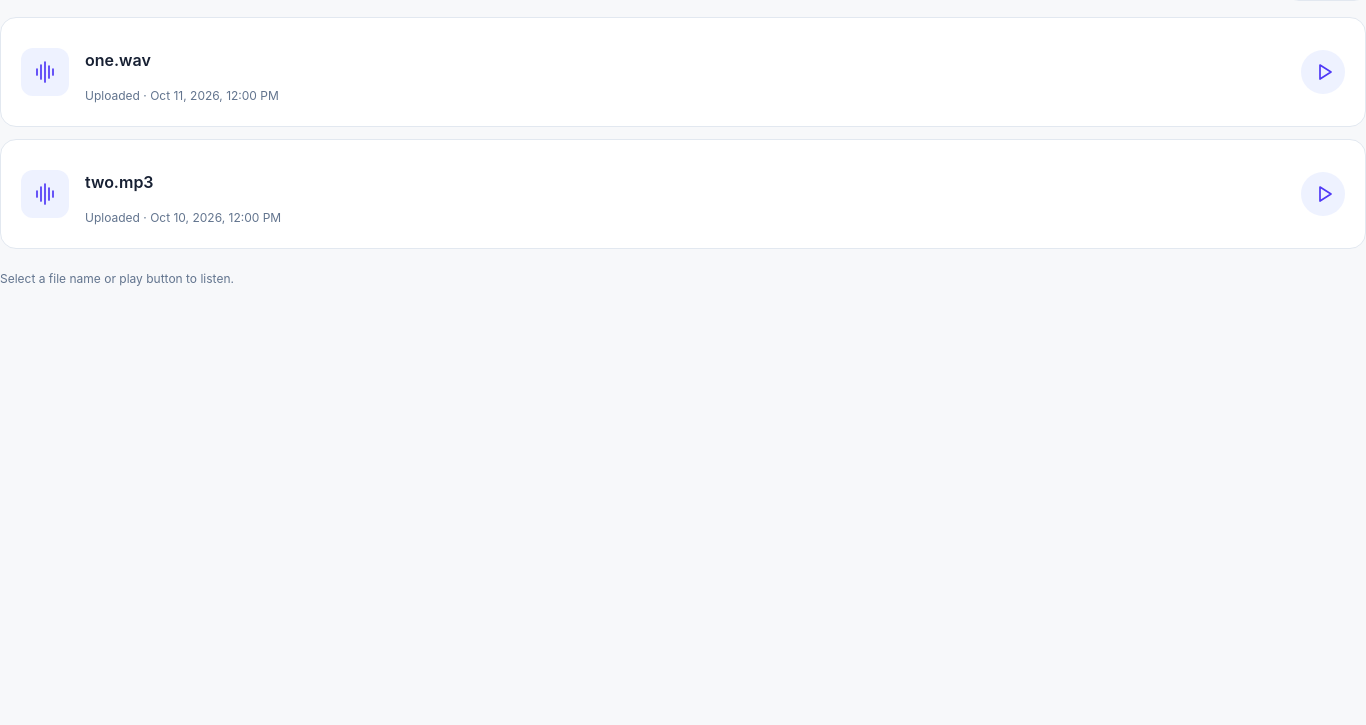
Scenario: audio player › stops the previous file and plays the selected file in the modal
Click the button named "Play one.wav". click: (1323, 72)
box: [1301, 50, 1345, 94]
(page scrolled)
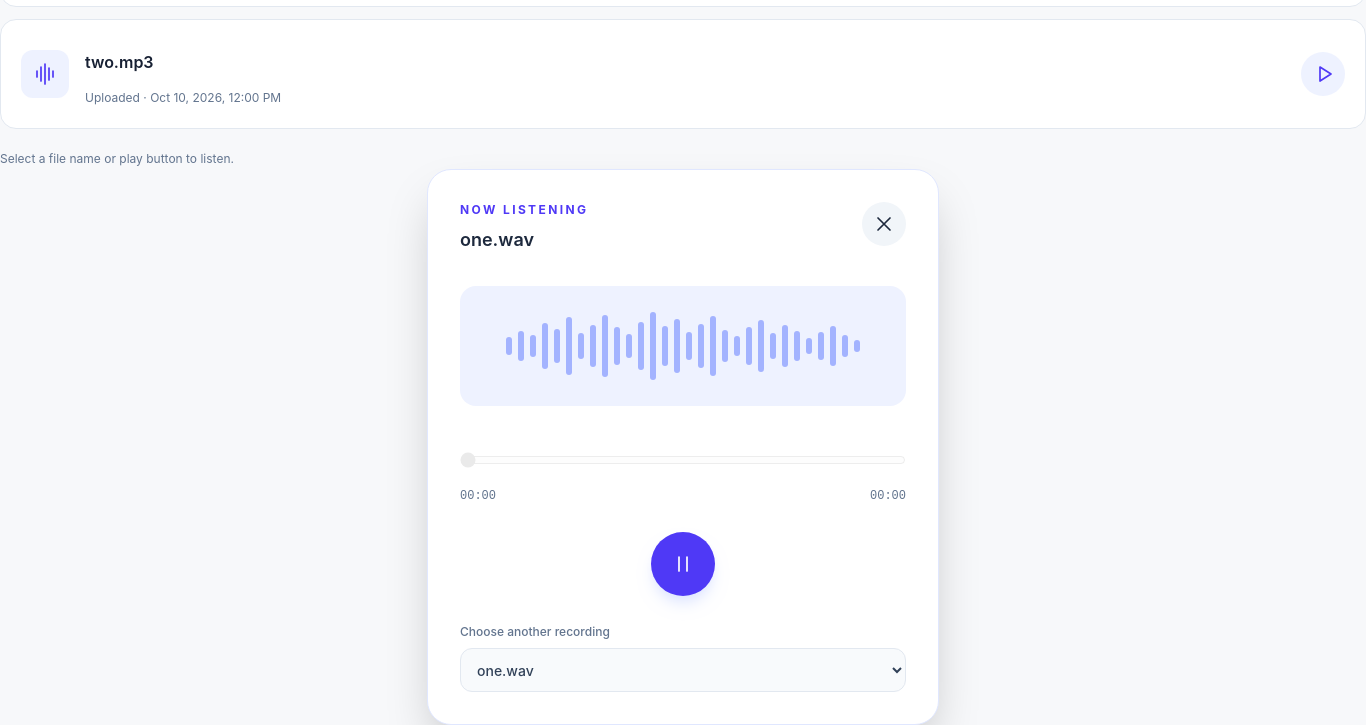
Expected: the button named "Pause" is shown, [651, 532, 715, 596]
Select "two.mp3" in the dropdown labelled "Choose another recording". click: (683, 670)
box: [460, 648, 906, 692]
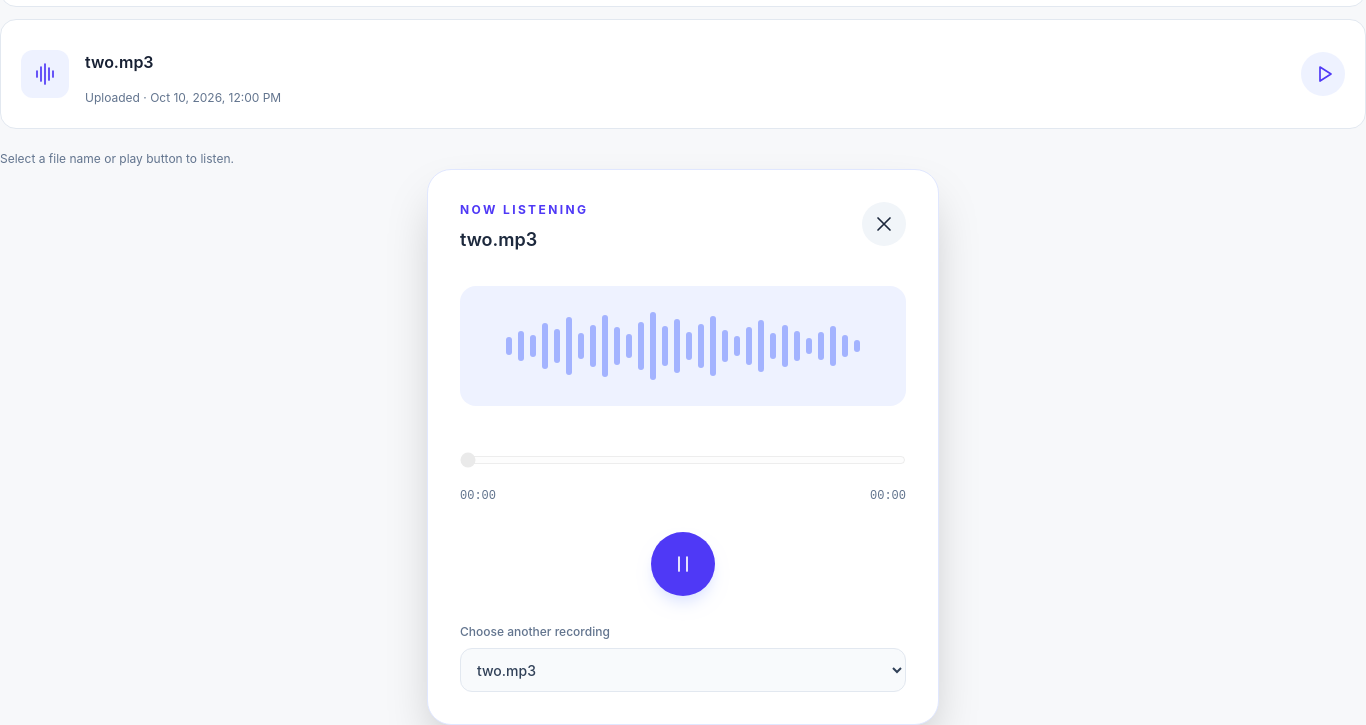
Expected: the button named "Pause" is shown, [651, 532, 715, 596]
Expected: the dialog "two.mp3" is shown, [427, 169, 939, 724]
